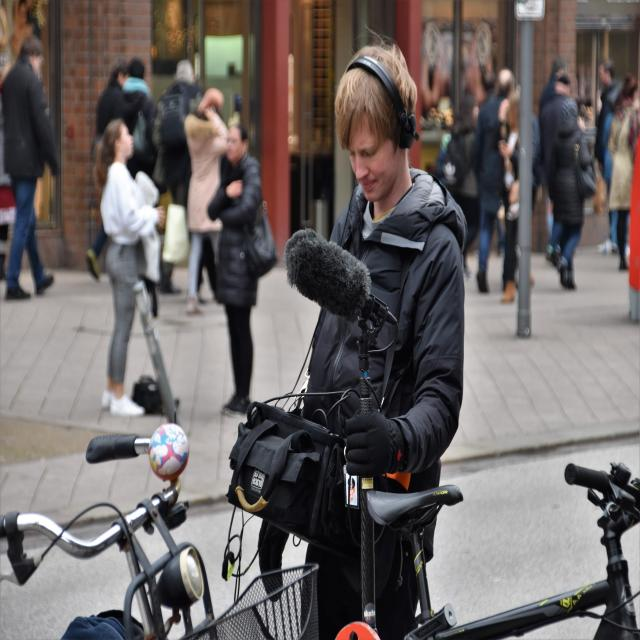adult: (256, 42, 468, 640), (96, 119, 167, 416), (205, 121, 267, 420), (0, 34, 65, 302)
